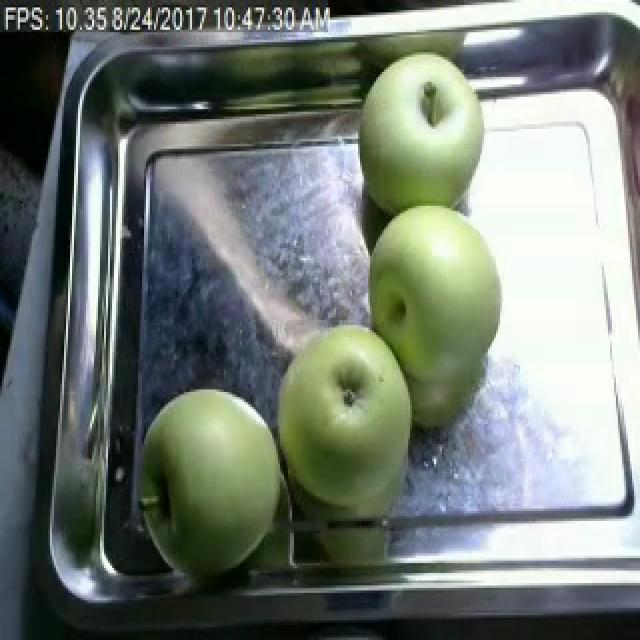50-_ripeness: (140, 390, 290, 570), (276, 333, 432, 505), (342, 67, 504, 212), (373, 220, 505, 372)
